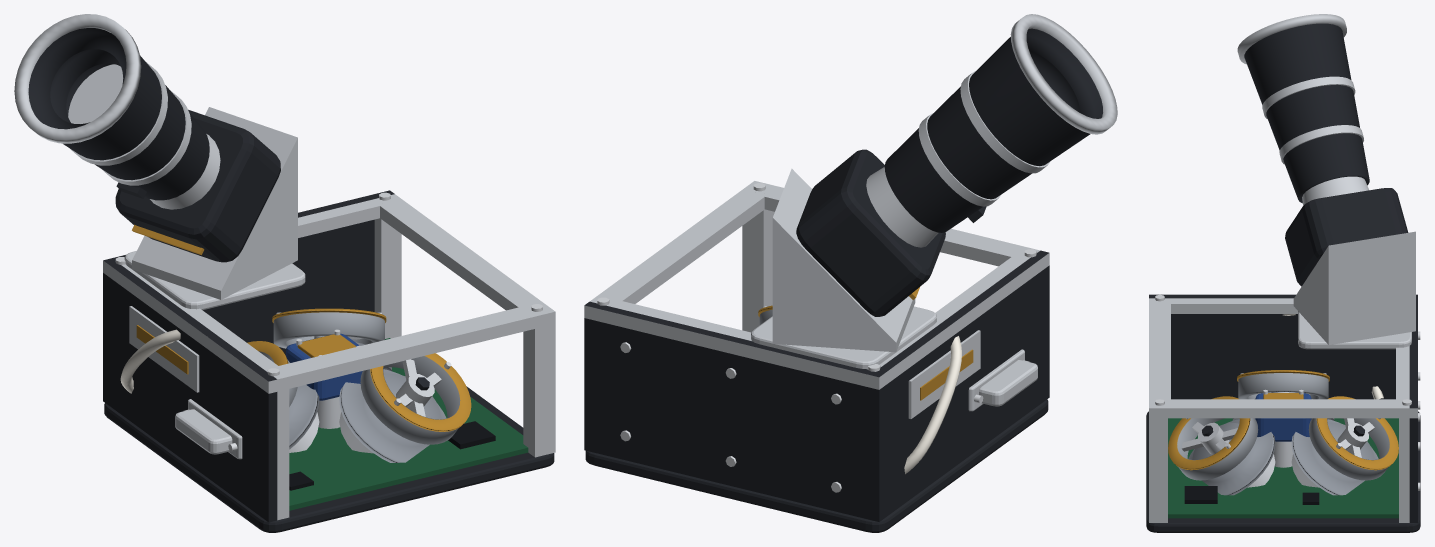
File: attitude-precision.glb
3 views of the same model, side by side, from view 1: azimuth 30°, elevation 25°; view 2: azimuth 150°, elevation 25°; view 3: azimuth 270°, elevation 25° (orthographic). The views are drawn at different scales.
Parts seen in each view (by area): view 1: wall-left, top-frame (×4), tracker-baffle, tracker-head, tracker-wedge-block, control-board-pcb, wall-back, corner-post (×3), base-plate, tracker-lip, tracker-band (×2), wheel-1-rw-housing (+15 smaller); view 2: wall-back, tracker-baffle, wall-left, top-frame (×4), tracker-head, tracker-wedge-block, base-plate, tracker-lip, corner-post, tracker-flange, tracker-band (×2), tracker-lens-mount (+4 smaller); view 3: wall-left, tracker-baffle, tracker-wedge-block, top-frame (×4), control-board-pcb, tracker-head, base-plate, corner-post (×2), wheel-2-rw-housing, wheel-1-rw-housing, wheel-3-rw-rim, wheel-2-rw-rim (+14 smaller).
Boxes of the visible parts, bbox=[...] form: wall-left: bbox=[103, 258, 277, 522]; top-frame (×4): bbox=[103, 199, 555, 393]; tracker-baffle: bbox=[28, 28, 209, 200]; tracker-head: bbox=[115, 109, 280, 262]; tracker-wedge-block: bbox=[132, 107, 297, 299]; control-board-pcb: bbox=[289, 338, 528, 510]; wall-back: bbox=[111, 190, 394, 355]; corner-post (×3): bbox=[266, 194, 555, 520]; base-plate: bbox=[104, 386, 554, 532]; tracker-lip: bbox=[14, 14, 141, 143]; tracker-band (×2): bbox=[68, 61, 191, 185]; wheel-1-rw-housing: bbox=[339, 369, 446, 462]; wall-back: bbox=[584, 301, 882, 521]; tracker-baffle: bbox=[884, 28, 1102, 232]; wall-left: bbox=[871, 250, 1049, 521]; top-frame (×4): bbox=[584, 186, 1049, 389]; tracker-head: bbox=[796, 149, 945, 316]; tracker-wedge-block: bbox=[772, 168, 915, 352]; base-plate: bbox=[585, 399, 1048, 532]; tracker-lip: bbox=[1010, 14, 1117, 134]; corner-post: bbox=[742, 181, 774, 332]; tracker-flange: bbox=[751, 306, 936, 368]; tracker-band (×2): bbox=[918, 71, 1050, 206]; tracker-lens-mount: bbox=[866, 167, 938, 247]; wall-left: bbox=[1149, 294, 1417, 399]; tracker-baffle: bbox=[1244, 23, 1369, 203]; tracker-wedge-block: bbox=[1293, 231, 1415, 344]; top-frame (×4): bbox=[1149, 298, 1417, 418]; control-board-pcb: bbox=[1168, 418, 1398, 518]; tracker-head: bbox=[1285, 188, 1408, 286]; base-plate: bbox=[1146, 411, 1420, 532]; corner-post (×2): bbox=[1149, 400, 1409, 522]; wheel-2-rw-housing: bbox=[1291, 419, 1378, 495]; wheel-1-rw-housing: bbox=[1188, 419, 1275, 495]; wheel-3-rw-rim: bbox=[1238, 373, 1328, 399]; wheel-2-rw-rim: bbox=[1308, 418, 1389, 480].
Bounding box in the file's own units: 0.1501 × 0.155 × 0.1.
